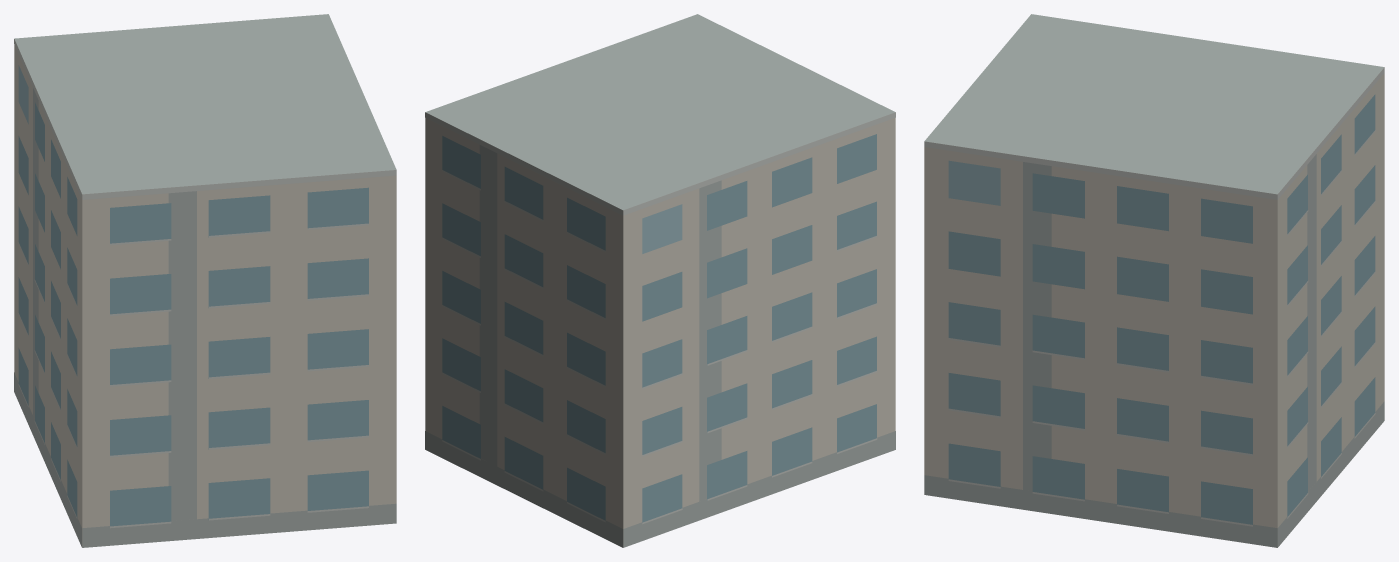
Rendered from residential-b80c53fc-95bb-4422-8ee4-afde0cb7f8c1.glb.
3 views of the same model, side by side, from view 1: azimuth 30°, elevation 25°; view 2: azimuth 150°, elevation 25°; view 3: azimuth 270°, elevation 25° (orthographic). The views are drawn at different scales.
Parts seen in each view (by area): view 1: residential-b80c53fc-95bb-4422-8ee4-afde0cb7f8c1.tmp; view 2: residential-b80c53fc-95bb-4422-8ee4-afde0cb7f8c1.tmp; view 3: residential-b80c53fc-95bb-4422-8ee4-afde0cb7f8c1.tmp.
Boxes of the visible parts, x1,y1,x2,y2 form: residential-b80c53fc-95bb-4422-8ee4-afde0cb7f8c1.tmp: (14,14,396,547); residential-b80c53fc-95bb-4422-8ee4-afde0cb7f8c1.tmp: (425,14,895,547); residential-b80c53fc-95bb-4422-8ee4-afde0cb7f8c1.tmp: (924,14,1384,547).
Bounding box in the file's own units: 16.7 × 15.25 × 18.01.
